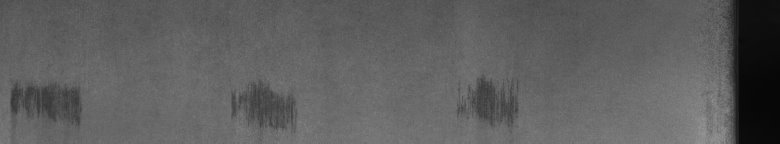ka: (224, 80, 301, 136)
